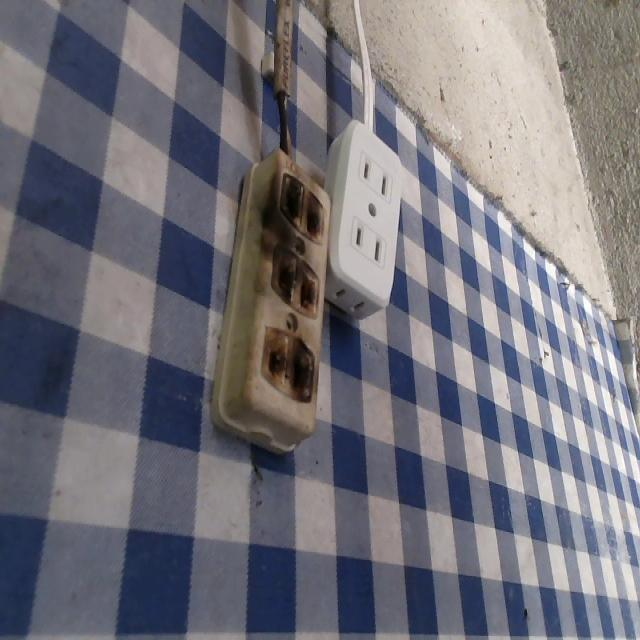-: (261, 323, 329, 412), (273, 170, 328, 247), (272, 248, 328, 320)
